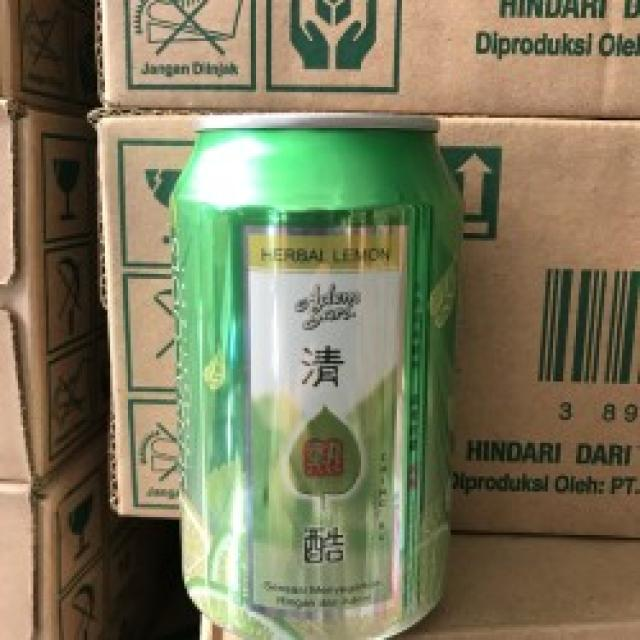ademsarikaleng: (166, 112, 464, 638)
